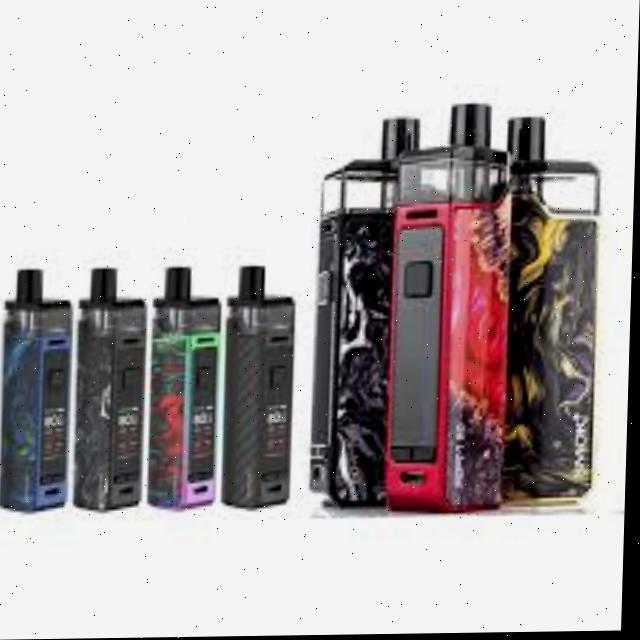vape: (387, 99, 515, 518), (488, 104, 607, 521), (317, 116, 428, 513), (0, 268, 77, 513), (76, 269, 152, 514), (149, 266, 225, 511), (223, 265, 299, 510)
